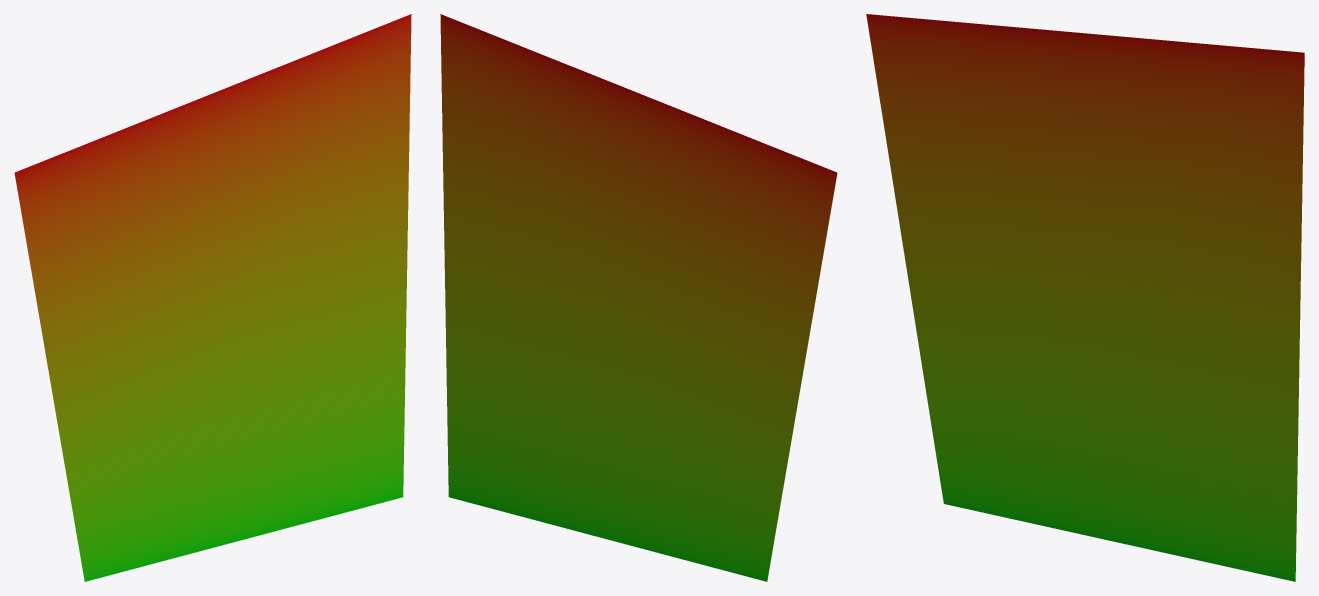
File: Var5_LOD3.fbx
3 views of the same model, side by side, from view 1: azimuth 30°, elevation 25°; view 2: azimuth 150°, elevation 25°; view 3: azimuth 330°, elevation 25° (orthographic). The views are drawn at different scales.
Parts seen in each view (by area): view 1: _8k43_Var5_LOD3; view 2: _8k43_Var5_LOD3; view 3: _8k43_Var5_LOD3.
Boxes of the visible parts, left/top/right/bottom form: _8k43_Var5_LOD3: left=14, top=14, right=411, bottom=581; _8k43_Var5_LOD3: left=440, top=14, right=837, bottom=581; _8k43_Var5_LOD3: left=866, top=14, right=1304, bottom=581.
Bounding box in the file's own units: 20.61 × 24.22 × 2.89e-06.
